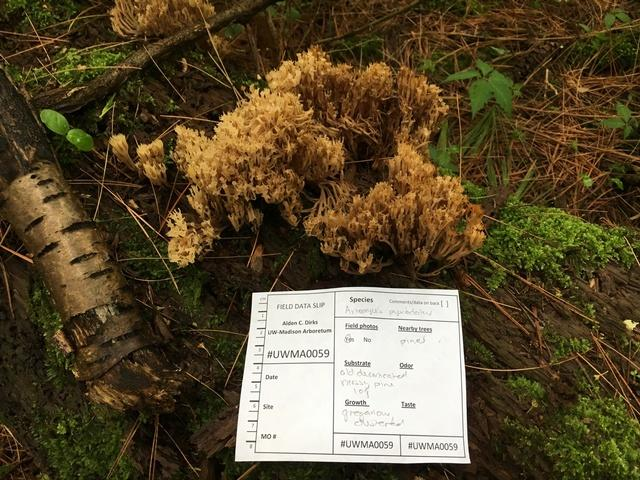Edible Mushroom: (121, 44, 489, 278)
